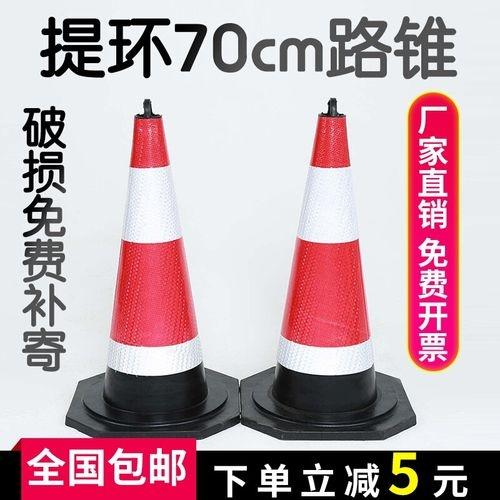cone_barrel: (259, 109, 390, 433), (89, 110, 219, 432)
